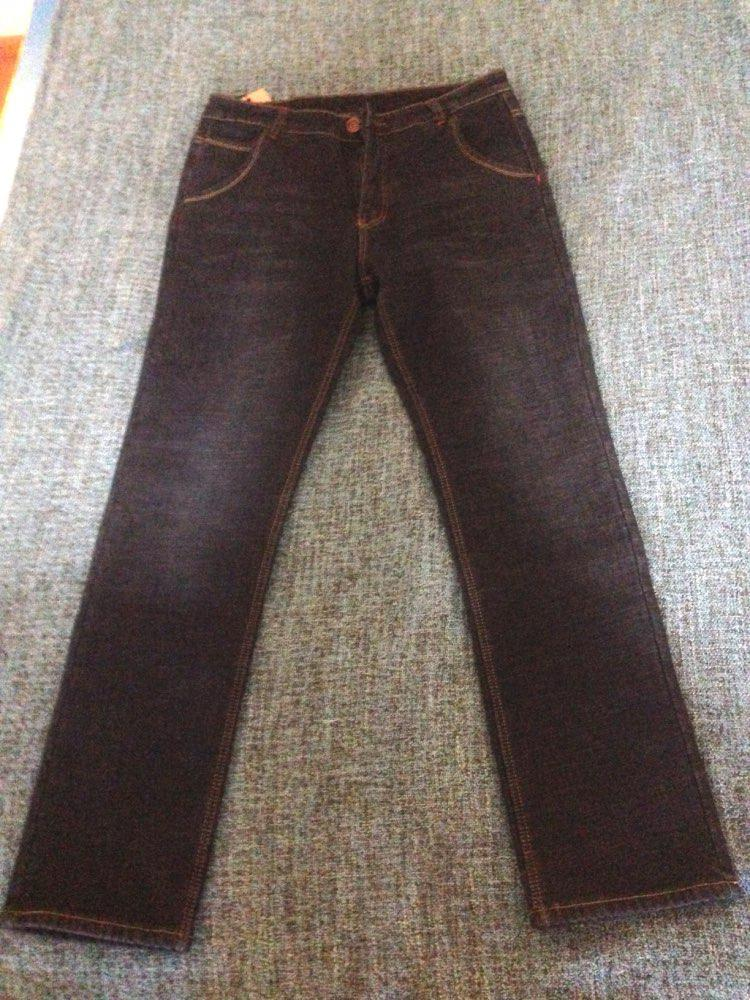jeans: (28, 65, 736, 964)
